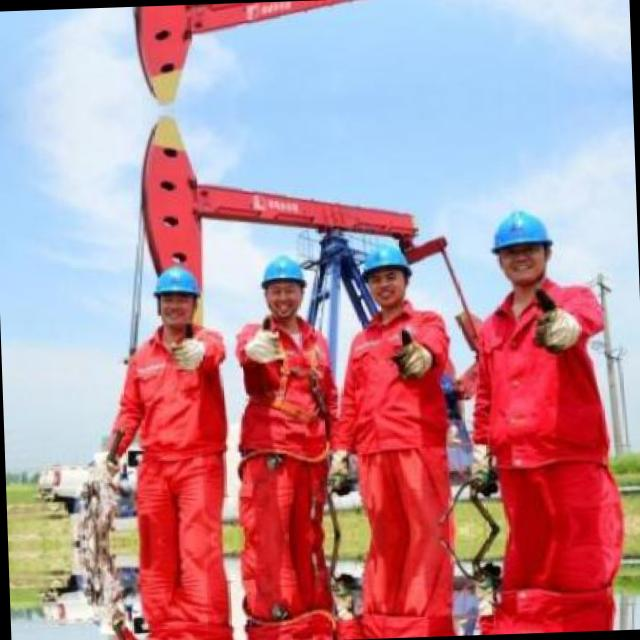helmet: (483, 202, 558, 291), (351, 230, 415, 312), (254, 246, 312, 323), (148, 257, 205, 334)
